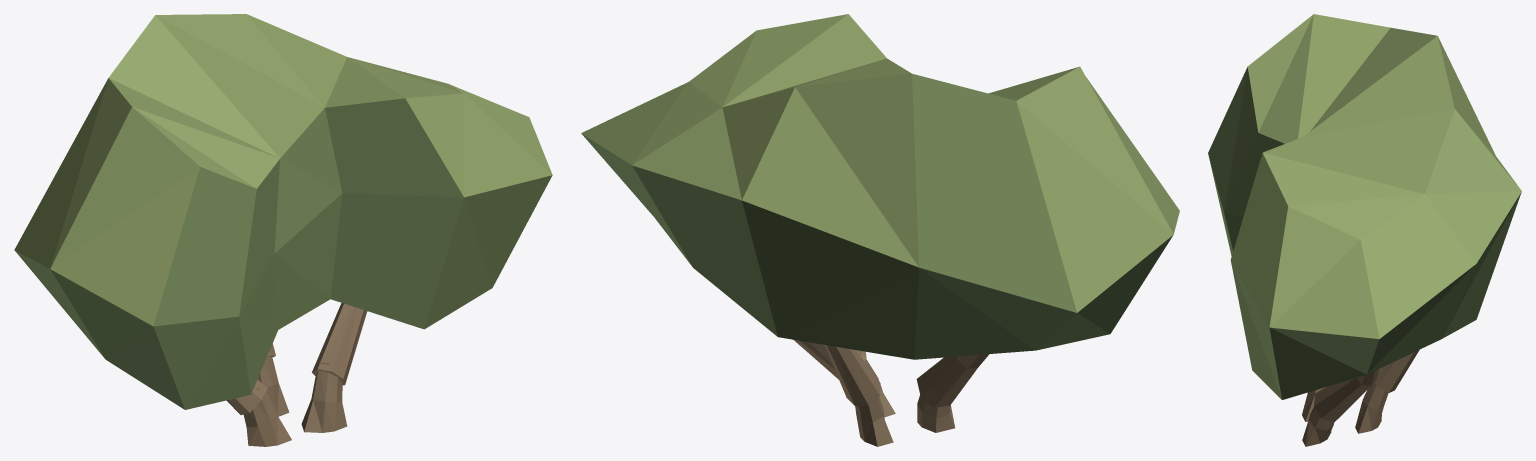
The picture shows the model from 3 angles, left to right: view 1: azimuth 30°, elevation 25°; view 2: azimuth 150°, elevation 25°; view 3: azimuth 270°, elevation 25°; orthographic projection. The views are drawn at different scales.
Parts seen in each view (by area): view 1: nature-multistem-shrub-01; view 2: nature-multistem-shrub-01; view 3: nature-multistem-shrub-01.
Part boxes in pixels (x1,y1,x2,y2): nature-multistem-shrub-01: (14, 14, 552, 446); nature-multistem-shrub-01: (581, 14, 1179, 446); nature-multistem-shrub-01: (1208, 14, 1521, 446).
Bounding box in the file's own units: 1.7 × 1.22 × 0.97.
